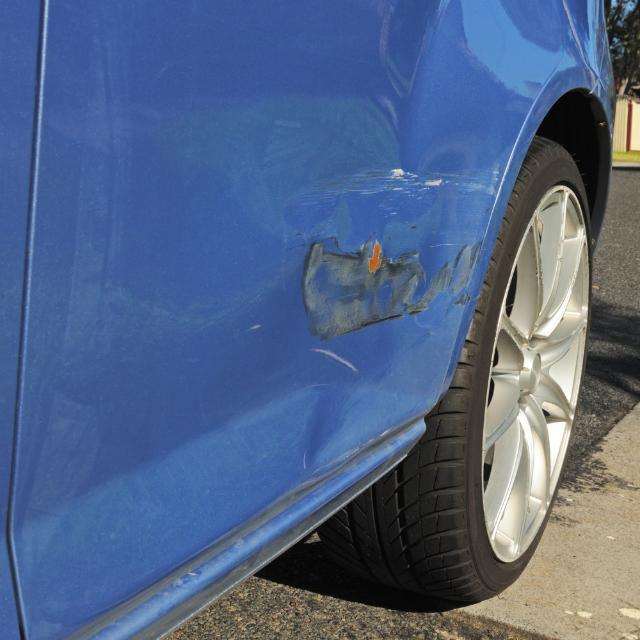dent: (278, 150, 480, 465)
